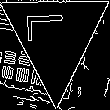L_E: (33, 21, 78, 54)
